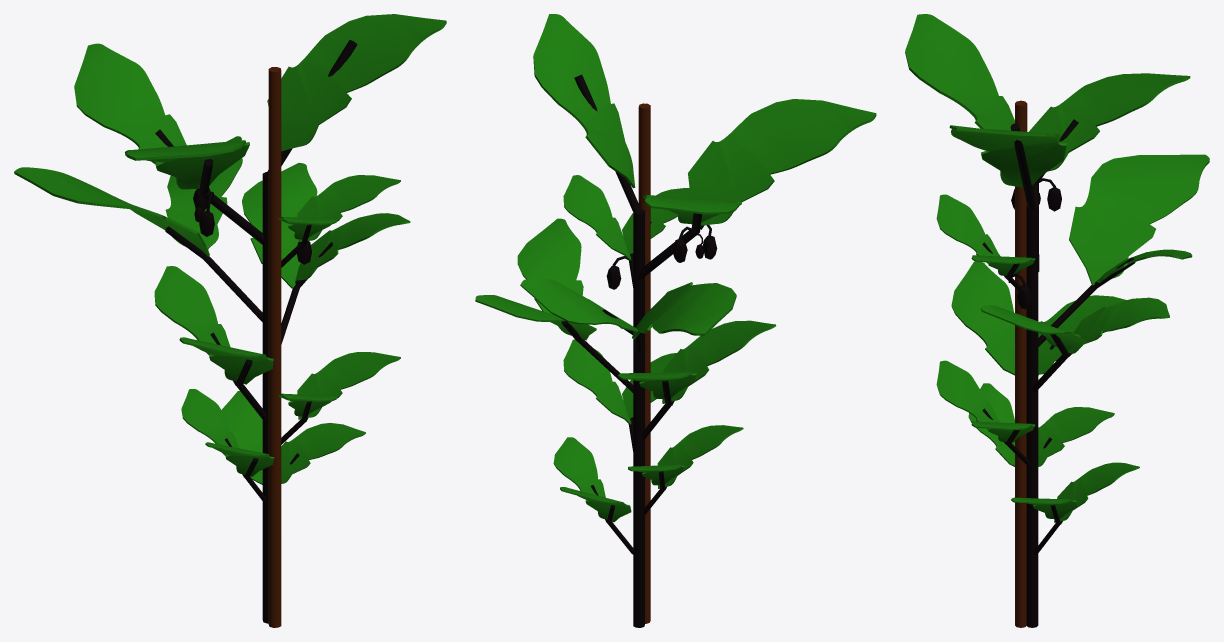
Rendered from 茄子成長2.FBX.
3 renders of one model, left to right at view 1: azimuth 30°, elevation 25°; view 2: azimuth 150°, elevation 25°; view 3: azimuth 270°, elevation 25°, orthographic. The views are drawn at different scales.
Visible parts, largest first — view 1: Line001, Cylinder007, Line007, Line019, Line010, Line006, Line008, Cylinder001, Line012, Line017, Line014, Line011 (+9 smaller); view 2: Line006, Line001, Cylinder001, Line008, Cylinder007, Line011, Line018, Line009, Line017, Line012, Line020, Line014 (+9 smaller); view 3: Line008, Line006, Line007, Cylinder001, Cylinder007, Line018, Line001, Line010, Line021, Line013, Line016, Line019 (+9 smaller).
Boxes of the visible parts, left/top/right/bottom form: Line001: left=267, top=14, right=446, bottom=151; Cylinder007: left=268, top=67, right=281, bottom=627; Line007: left=74, top=43, right=199, bottom=186; Line019: left=154, top=266, right=237, bottom=379; Line010: left=242, top=163, right=317, bottom=288; Line006: left=125, top=140, right=249, bottom=189; Line008: left=14, top=167, right=209, bottom=256; Cylinder001: left=262, top=172, right=268, bottom=623; Line012: left=297, top=352, right=400, bottom=419; Line017: left=297, top=175, right=400, bottom=242; Line014: left=281, top=423, right=365, bottom=483; Line011: left=295, top=213, right=410, bottom=280; Line006: left=688, top=99, right=876, bottom=225; Line001: left=533, top=14, right=635, bottom=188; Cylinder001: left=633, top=209, right=644, bottom=627; Line008: left=632, top=282, right=736, bottom=339; Cylinder007: left=638, top=103, right=650, bottom=623; Line011: left=517, top=218, right=583, bottom=314; Line018: left=662, top=320, right=775, bottom=403; Line009: left=520, top=279, right=638, bottom=332; Line017: left=563, top=175, right=631, bottom=260; Line012: left=563, top=339, right=631, bottom=424; Line020: left=657, top=425, right=743, bottom=488; Line014: left=553, top=437, right=607, bottom=518; Line008: left=1069, top=154, right=1209, bottom=285; Line006: left=905, top=14, right=1014, bottom=130; Line007: left=1029, top=73, right=1190, bottom=171; Cylinder001: left=1026, top=204, right=1038, bottom=627; Cylinder007: left=1015, top=100, right=1027, bottom=627; Line018: left=951, top=261, right=1014, bottom=375; Line001: left=949, top=125, right=1066, bottom=187; Line010: left=1067, top=297, right=1169, bottom=353; Line021: left=1038, top=407, right=1114, bottom=466; Line013: left=936, top=360, right=1007, bottom=440; Line016: left=936, top=194, right=1007, bottom=274; Line019: left=1038, top=295, right=1126, bottom=374.
Size of the model in its own units: 32.59 by 55.52 by 27.37.
